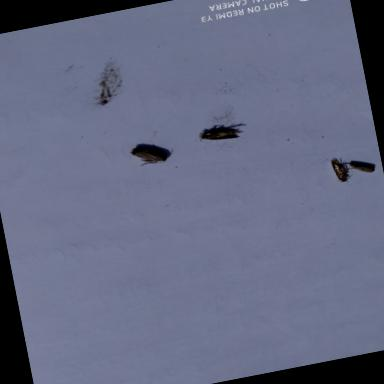pbw: (124, 135, 172, 173), (196, 120, 246, 150), (328, 156, 351, 184), (351, 156, 375, 178)
